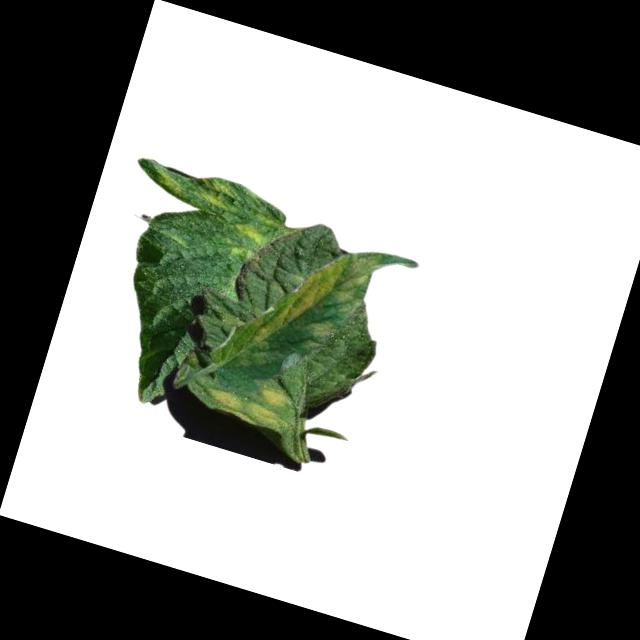Leaf_Mold: (276, 235, 384, 344), (202, 364, 296, 435), (193, 172, 243, 216), (226, 220, 273, 264)
